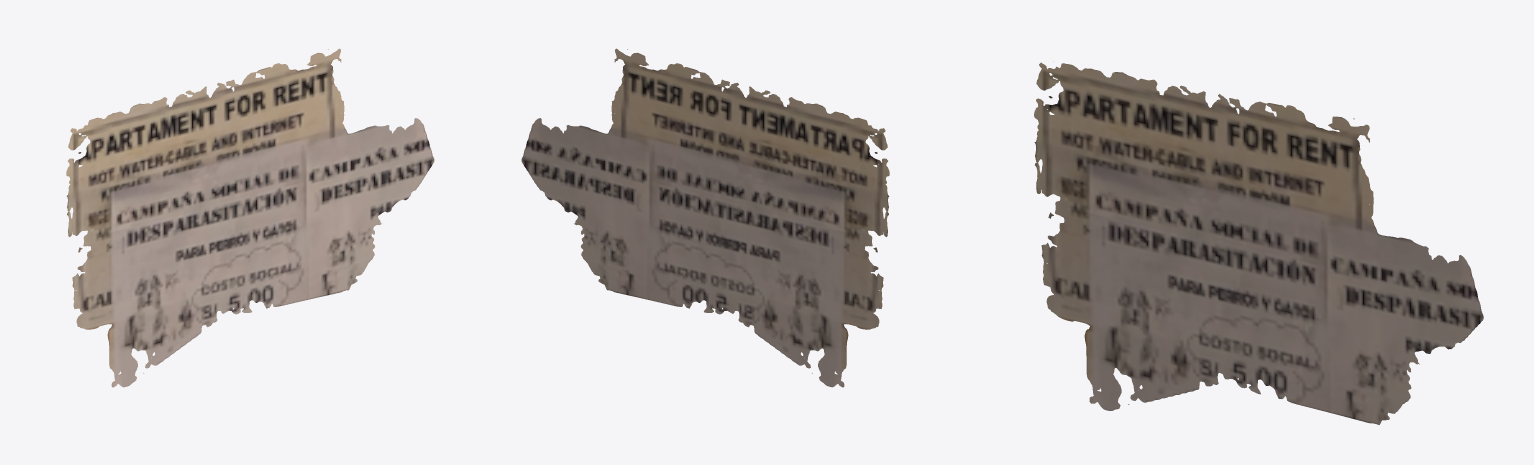
The model's file is Sticker_4.fbx.
The picture shows the model from 3 angles, left to right: view 1: azimuth 30°, elevation 25°; view 2: azimuth 150°, elevation 25°; view 3: azimuth 330°, elevation 25°; orthographic projection. The views are drawn at different scales.
Visible parts, largest first — view 1: Sticker_4; view 2: Sticker_4; view 3: Sticker_4.
Part boxes in pixels (x1,y1,x2,y2): Sticker_4: (66,48,434,387); Sticker_4: (521,48,889,387); Sticker_4: (1034,61,1483,424).
Size of the model in its own units: 0.3426 by 0.2534 by 7.81e-09.
